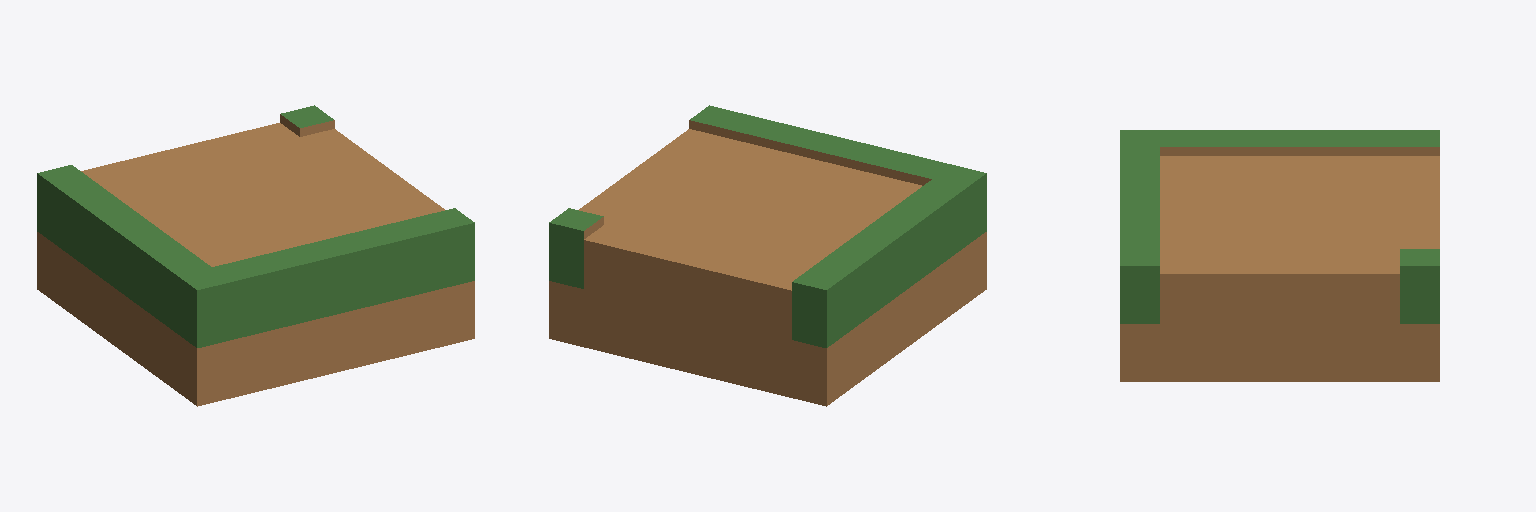
File: towerDefense_092.obj
The picture shows the model from 3 angles: view 1: azimuth 30°, elevation 25°; view 2: azimuth 150°, elevation 25°; view 3: azimuth 270°, elevation 25°; orthographic projection.
Parts seen in each view (by area): view 1: Mesh1 Group1 Model; view 2: Mesh1 Group1 Model; view 3: Mesh1 Group1 Model.
Boxes of the visible parts, x1,y1,x2,y2 form: Mesh1 Group1 Model: [37, 105, 474, 406]; Mesh1 Group1 Model: [549, 105, 986, 406]; Mesh1 Group1 Model: [1120, 130, 1439, 381].
Bounding box in the file's own units: 1 × 0.4 × 1.